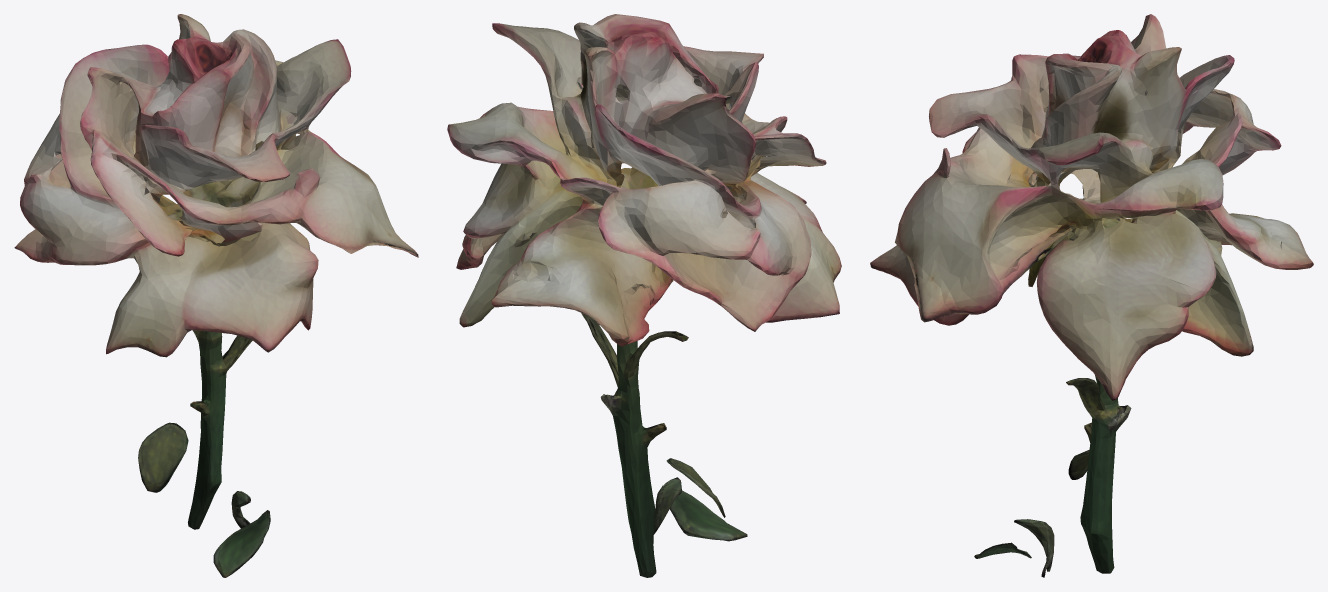
3 renders of one model, left to right at view 1: azimuth 30°, elevation 25°; view 2: azimuth 150°, elevation 25°; view 3: azimuth 270°, elevation 25°, orthographic. The views are drawn at different scales.
Parts seen in each view (by area): view 1: world; view 2: world; view 3: world.
Boxes of the visible parts, box(x1,y1,x2,y2) form: world: box(14, 14, 418, 577); world: box(447, 14, 841, 577); world: box(870, 14, 1313, 577).
Size of the model in its own units: 0.6079 by 0.919 by 0.6884.
1 material, 1 textured.
